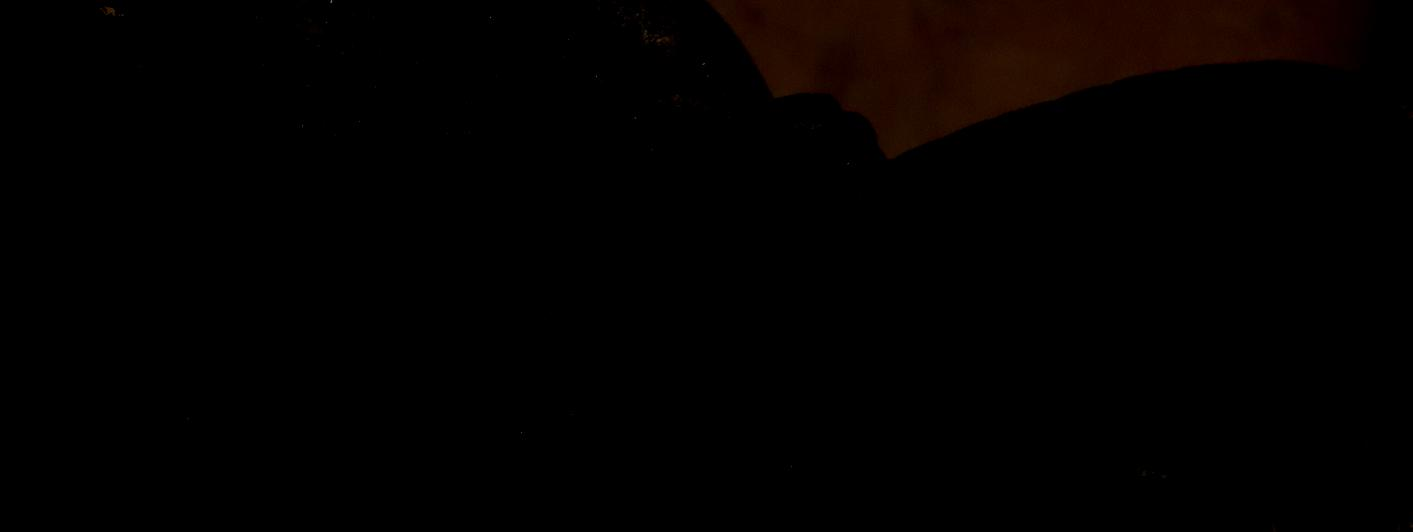Khonsu: (0, 0, 822, 532)
